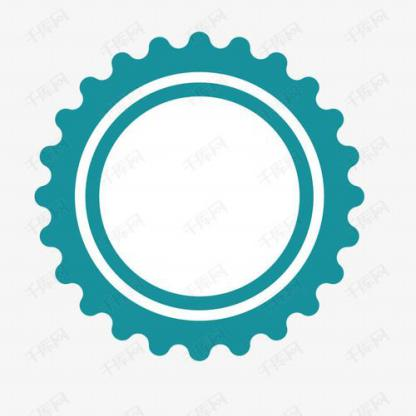FOD: (33, 28, 368, 370)
